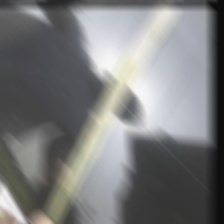Leaf_Blast: (51, 5, 165, 216)
